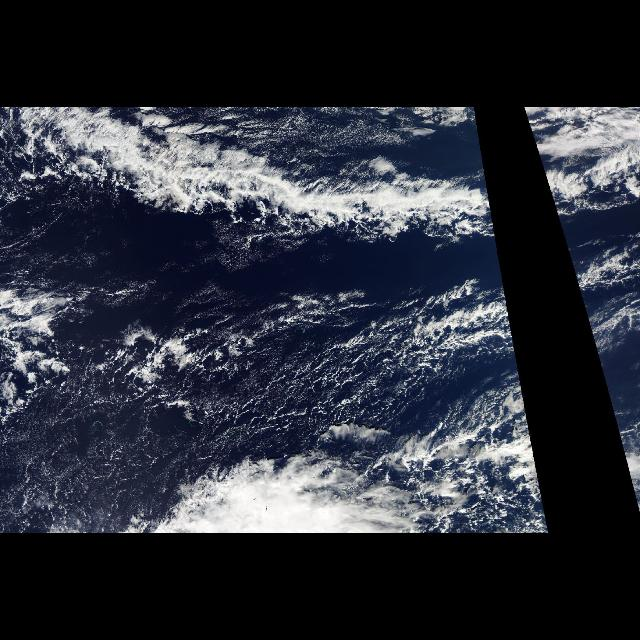Fish: (1, 115, 500, 261), (524, 115, 636, 239)
Gravel: (5, 275, 549, 531), (576, 275, 638, 413), (615, 420, 635, 498)
Sugar: (6, 421, 148, 531)
